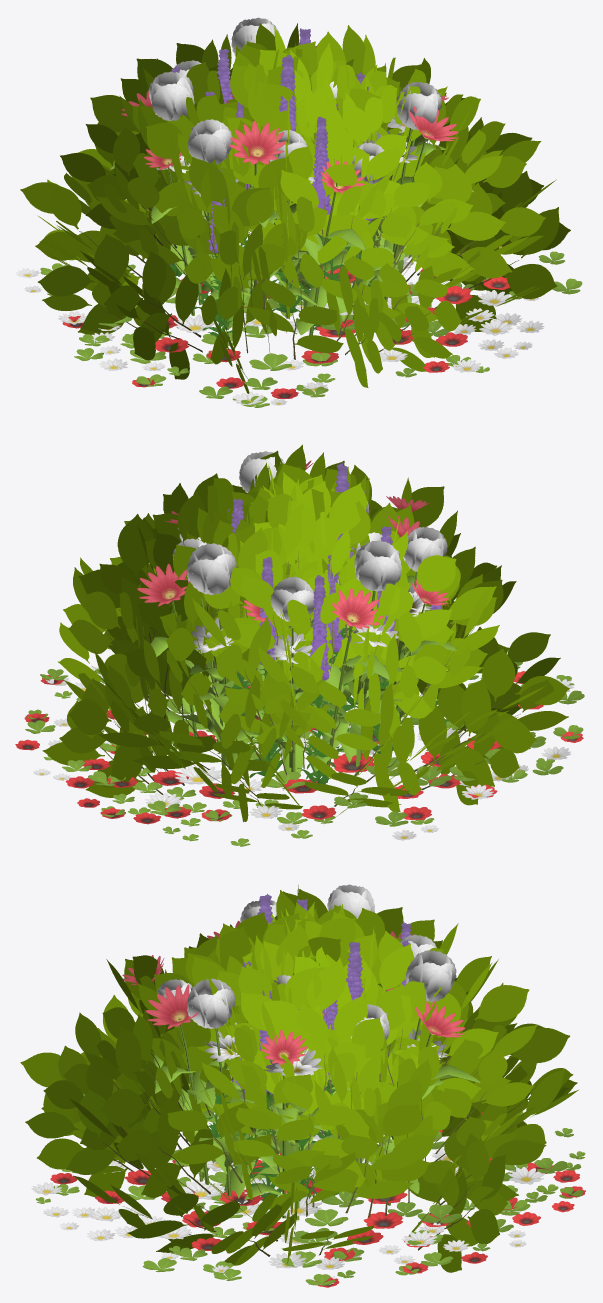
File: SGS_Flowers.fbx
3 renders of one model, top to bottom at view 1: azimuth 30°, elevation 25°; view 2: azimuth 150°, elevation 25°; view 3: azimuth 270°, elevation 25°, orthographic. The views are drawn at different scales.
Visible parts, largest first — view 1: Shrub_LOD0, Dandelions_LOD0, Aster_LOD0, Groundcover_Clovers, Groundcover_Daisies, Speedwell_LOD0, Groundcover_Poppies, Chamomile_LOD0; view 2: Shrub_LOD0, Dandelions_LOD0, Groundcover_Clovers, Aster_LOD0, Groundcover_Poppies, Speedwell_LOD0, Chamomile_LOD0, Groundcover_Daisies; view 3: Shrub_LOD0, Groundcover_Clovers, Dandelions_LOD0, Aster_LOD0, Groundcover_Daisies, Groundcover_Poppies, Speedwell_LOD0, Chamomile_LOD0.
Boxes of the visible parts, left/top/right/bottom form: Shrub_LOD0: left=20, top=23, right=570, bottom=393; Dandelions_LOD0: left=148, top=17, right=441, bottom=330; Aster_LOD0: left=109, top=45, right=473, bottom=335; Groundcover_Clovers: left=40, top=199, right=582, bottom=407; Groundcover_Daisies: left=16, top=246, right=544, bottom=405; Speedwell_LOD0: left=168, top=28, right=377, bottom=337; Groundcover_Poppies: left=62, top=263, right=510, bottom=398; Chamomile_LOD0: left=156, top=116, right=428, bottom=307; Shrub_LOD0: left=42, top=444, right=569, bottom=822; Dandelions_LOD0: left=172, top=451, right=447, bottom=773; Groundcover_Clovers: left=25, top=647, right=584, bottom=846; Aster_LOD0: left=137, top=460, right=456, bottom=782; Groundcover_Poppies: left=15, top=671, right=583, bottom=824; Speedwell_LOD0: left=227, top=462, right=448, bottom=790; Chamomile_LOD0: left=178, top=528, right=431, bottom=775; Groundcover_Daisies: left=33, top=665, right=574, bottom=840; Shrub_LOD0: left=20, top=885, right=578, bottom=1272; Groundcover_Clovers: left=36, top=1065, right=585, bottom=1285; Dandelions_LOD0: left=157, top=884, right=456, bottom=1201; Aster_LOD0: left=122, top=920, right=480, bottom=1218; Groundcover_Daisies: left=31, top=1131, right=544, bottom=1284; Groundcover_Poppies: left=50, top=1111, right=585, bottom=1287; Speedwell_LOD0: left=206, top=893, right=422, bottom=1207; Chamomile_LOD0: left=202, top=1022, right=454, bottom=1220.
Size of what is drawn, in the model's own units: 0.0166 by 0.00976 by 0.0161.
Materials: 1 (1 with a texture image).
